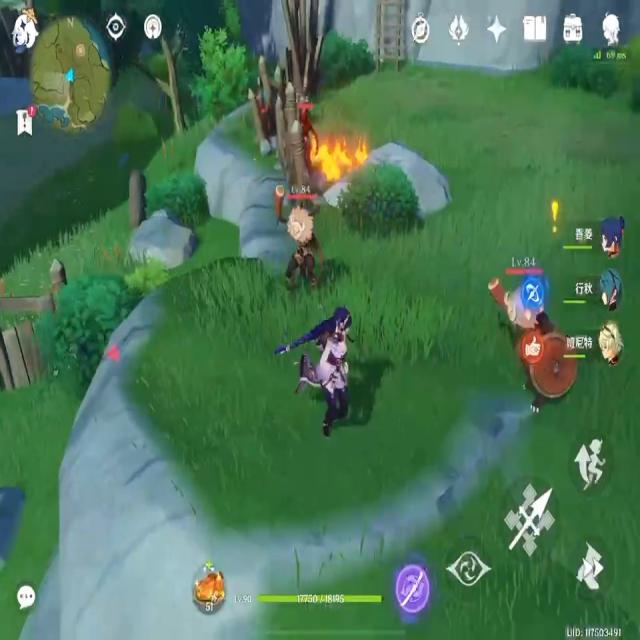genshin-hilichurls: (486, 253, 566, 410), (272, 178, 320, 291), (297, 94, 318, 164)
